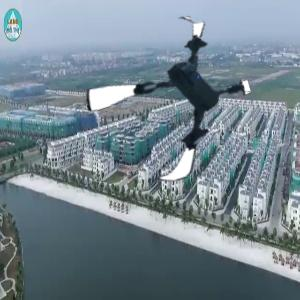drone: (89, 21, 252, 184)
